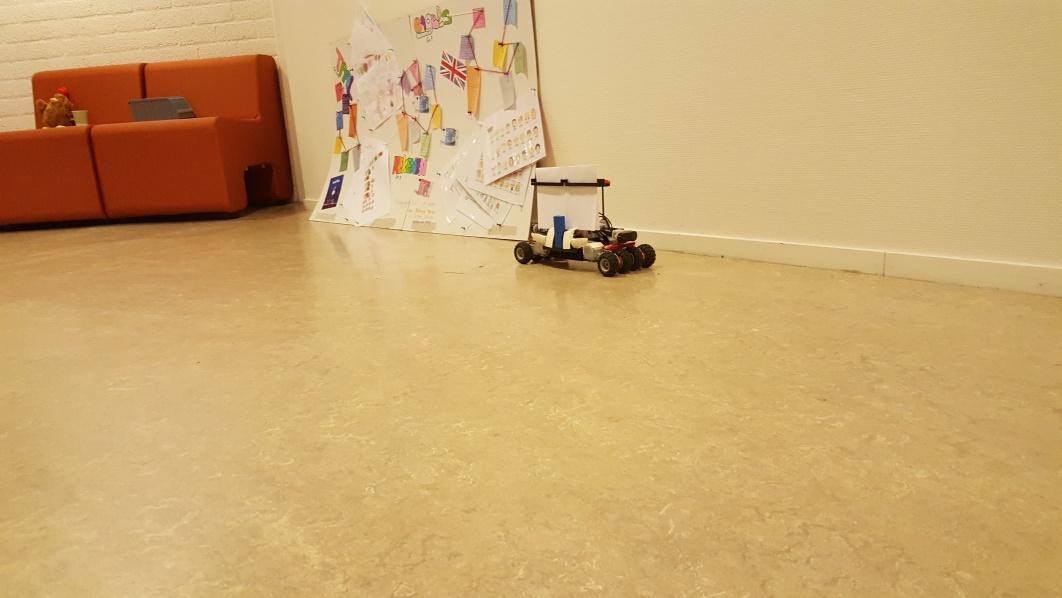car: (512, 167, 656, 279)
